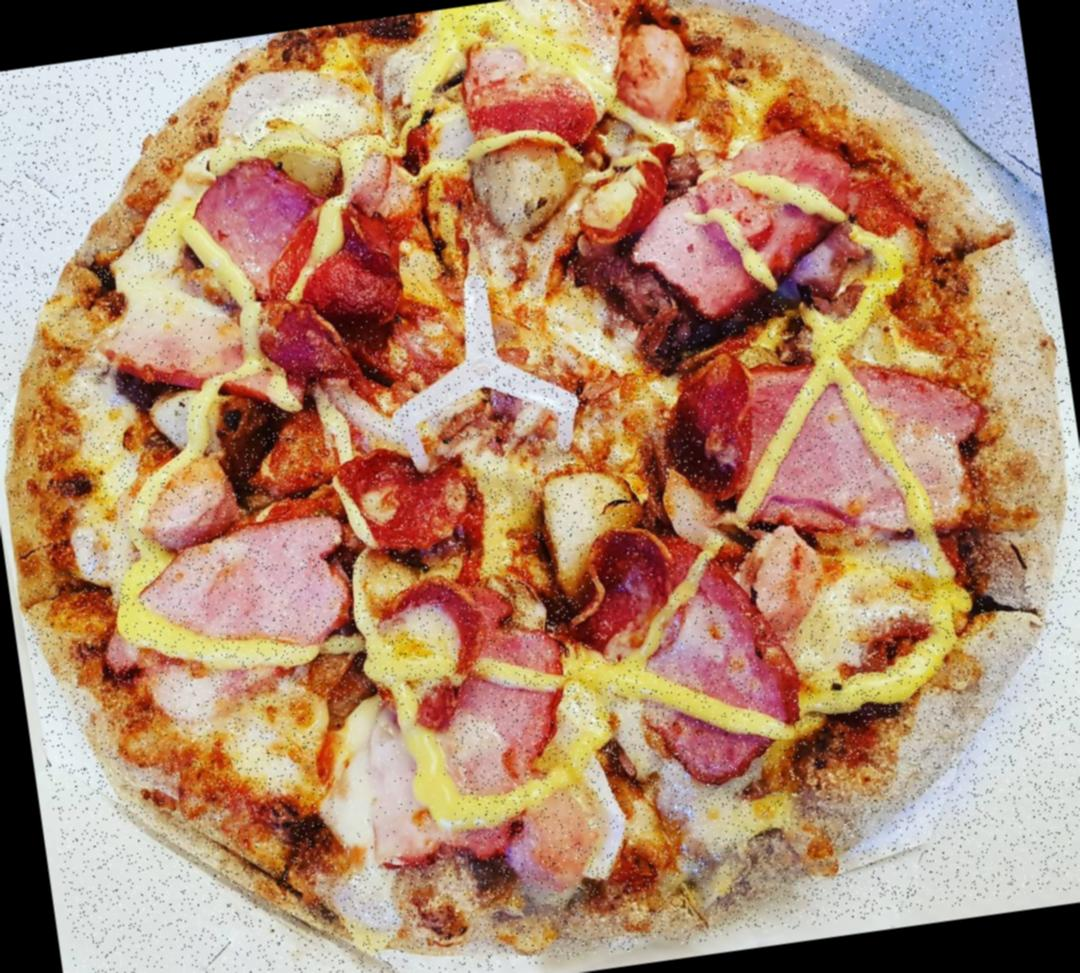Chicken: (208, 53, 384, 156), (547, 460, 657, 590), (464, 128, 591, 238), (368, 850, 494, 955), (543, 280, 644, 390), (610, 10, 699, 129), (136, 389, 232, 457)
Ham: (667, 328, 980, 555), (565, 110, 874, 330), (598, 535, 816, 798), (108, 506, 358, 677), (88, 262, 282, 424), (313, 689, 466, 866), (168, 148, 337, 304), (426, 21, 602, 149), (516, 778, 613, 908)
Pepperoni: (324, 437, 481, 572), (362, 567, 499, 708), (292, 197, 417, 344), (668, 360, 776, 504), (569, 520, 677, 662), (251, 282, 362, 386), (579, 142, 695, 237)
Pizza: (0, 0, 1080, 973)
